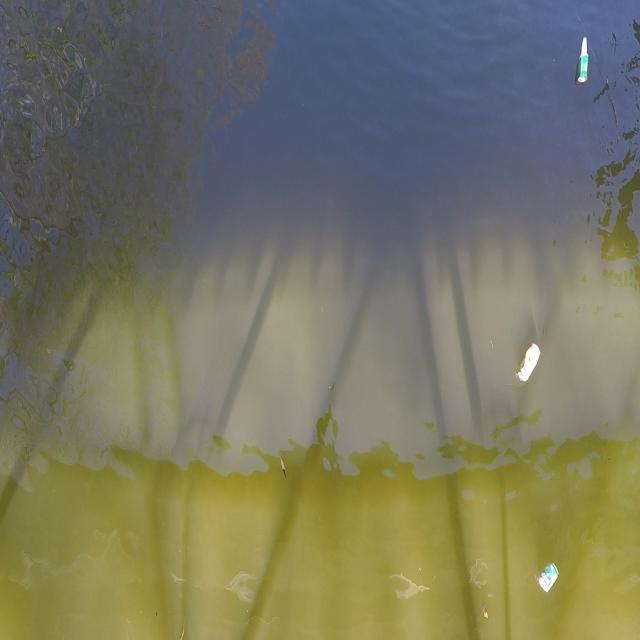Non plastique: (514, 335, 545, 390), (534, 561, 564, 599)
